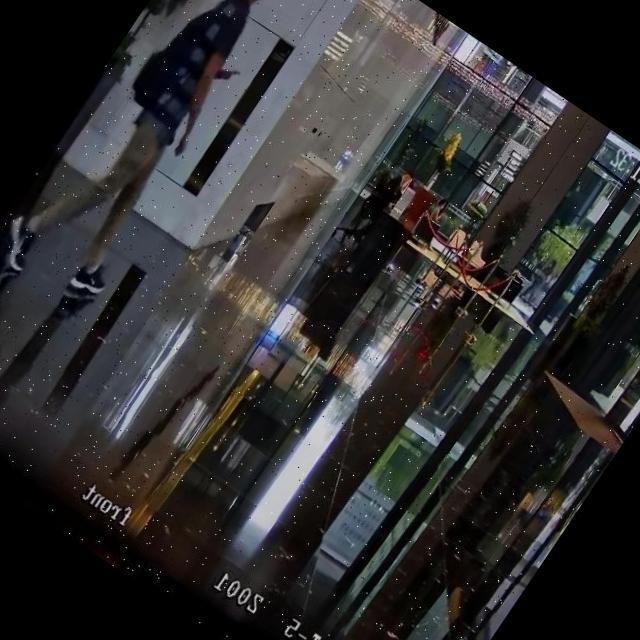person: (0, 0, 318, 326), (347, 163, 416, 250), (517, 254, 559, 306), (426, 198, 451, 226)
